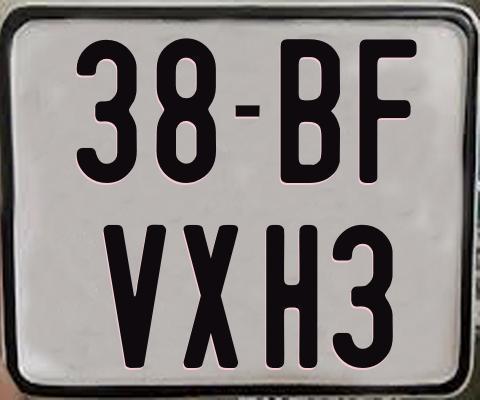3: (74, 39, 138, 184), (330, 224, 392, 369)
8: (155, 36, 221, 187)
B: (278, 37, 343, 187)
F: (358, 39, 422, 185)
H: (264, 225, 319, 372)
V: (103, 224, 171, 371)
X: (183, 222, 242, 367)
